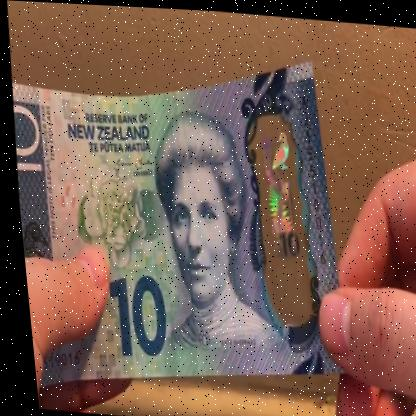10B: (249, 125, 309, 294)
